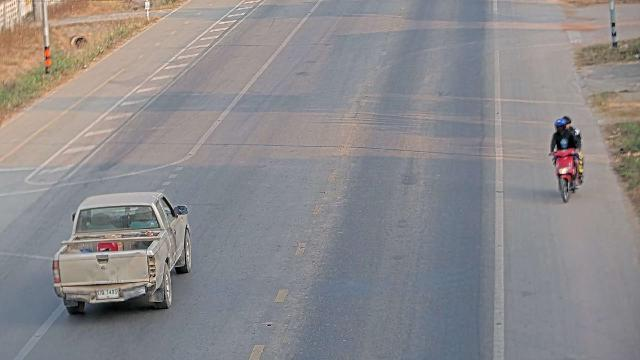motorcycle: (550, 130, 583, 203)
pickup-truck: (51, 190, 192, 315)
